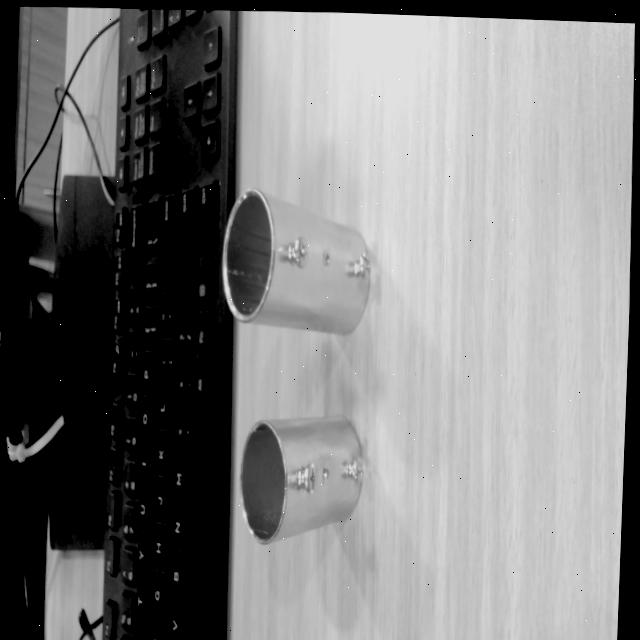Co_Lon: (214, 186, 378, 337)
Co_Nho: (235, 414, 366, 545)
